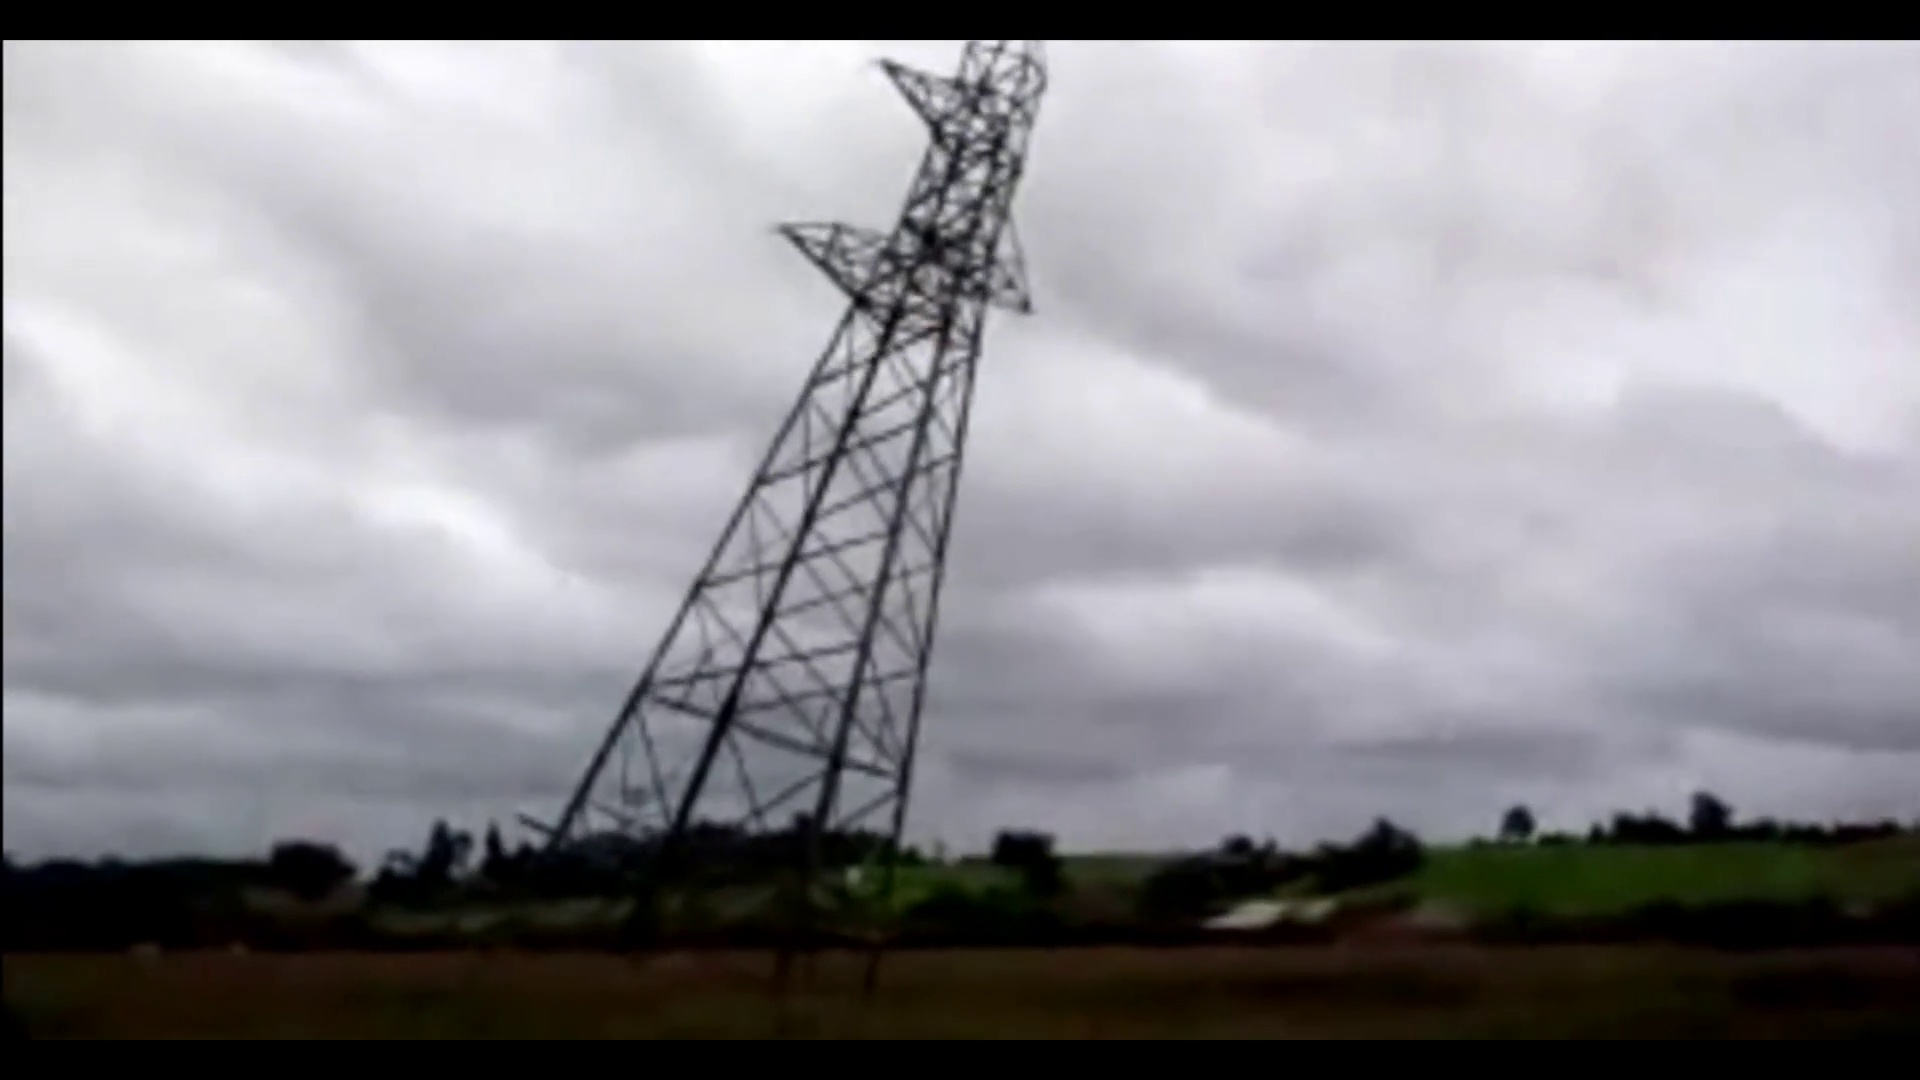tower_up: (556, 46, 1067, 855)
